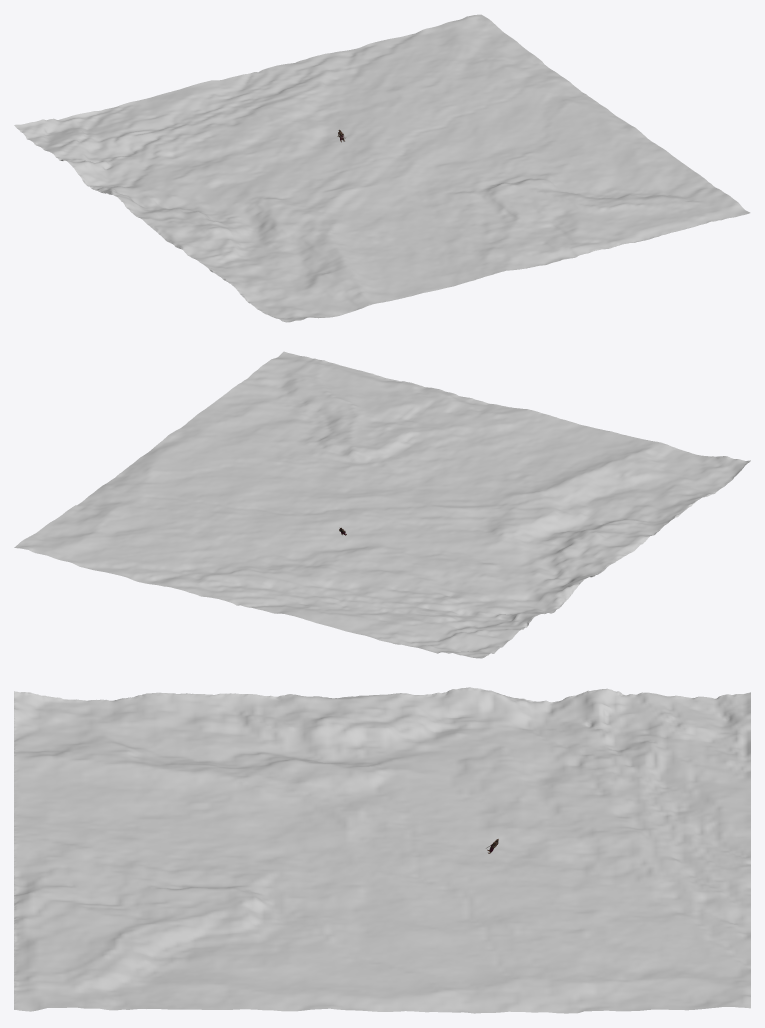
Rendered from Asur_Platform.gltf.
The picture shows the model from 3 angles, top to bottom: view 1: azimuth 30°, elevation 25°; view 2: azimuth 150°, elevation 25°; view 3: azimuth 270°, elevation 25°; orthographic projection. The views are drawn at different scales.
Parts seen in each view (by area): view 1: Mesher; view 2: Mesher; view 3: Mesher.
Part boxes in pixels (x1,y1,x2,y2): Mesher: (14,14,750,322); Mesher: (14,351,750,658); Mesher: (14,687,750,1013).
Bounding box in the file's own units: 306 × 10.07 × 306.
